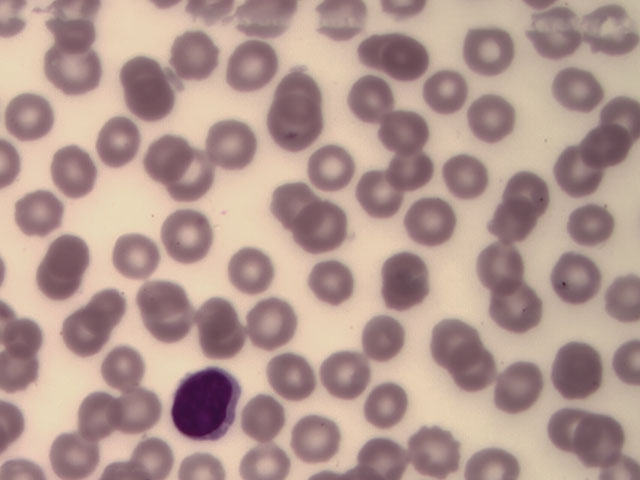RBC: (42, 40, 100, 97), (115, 40, 173, 97), (126, 68, 184, 125), (166, 28, 224, 85), (217, 35, 275, 92), (88, 111, 146, 168), (47, 135, 105, 192), (15, 175, 73, 232), (2, 86, 60, 143), (37, 233, 95, 290), (103, 228, 161, 285), (156, 203, 214, 260), (169, 154, 227, 211), (150, 135, 208, 192), (201, 115, 259, 172), (266, 96, 324, 153), (273, 69, 331, 126), (339, 70, 397, 127), (372, 27, 430, 84), (414, 63, 472, 120), (452, 21, 510, 78), (467, 93, 525, 150), (552, 58, 610, 115), (528, 7, 586, 64), (582, 4, 640, 61), (582, 82, 640, 139), (582, 112, 640, 169), (554, 133, 612, 190), (557, 194, 615, 251), (500, 161, 558, 218), (483, 193, 541, 250), (472, 231, 530, 288), (484, 277, 542, 334), (544, 249, 602, 306), (549, 337, 607, 394), (484, 358, 542, 415), (439, 338, 497, 395), (425, 314, 483, 371), (375, 251, 433, 308), (403, 192, 461, 249), (442, 149, 500, 206), (381, 138, 439, 195), (377, 114, 435, 171), (363, 170, 421, 227), (296, 142, 354, 199), (262, 163, 320, 220), (294, 203, 352, 260), (226, 245, 284, 302), (306, 255, 364, 312), (244, 294, 302, 351), (185, 284, 243, 341), (138, 278, 196, 335), (86, 276, 144, 333), (50, 308, 108, 365), (92, 335, 150, 392), (103, 372, 161, 429), (70, 387, 128, 444), (39, 423, 97, 480), (121, 423, 179, 480), (240, 390, 298, 447), (264, 345, 322, 402), (323, 346, 381, 403), (363, 316, 421, 373), (357, 380, 415, 437), (345, 423, 403, 480), (291, 409, 349, 466), (402, 423, 460, 480), (531, 403, 589, 460), (567, 411, 625, 468), (45, 1, 103, 57), (234, 1, 295, 41), (308, 1, 369, 41)
WBC: (173, 367, 244, 441)
